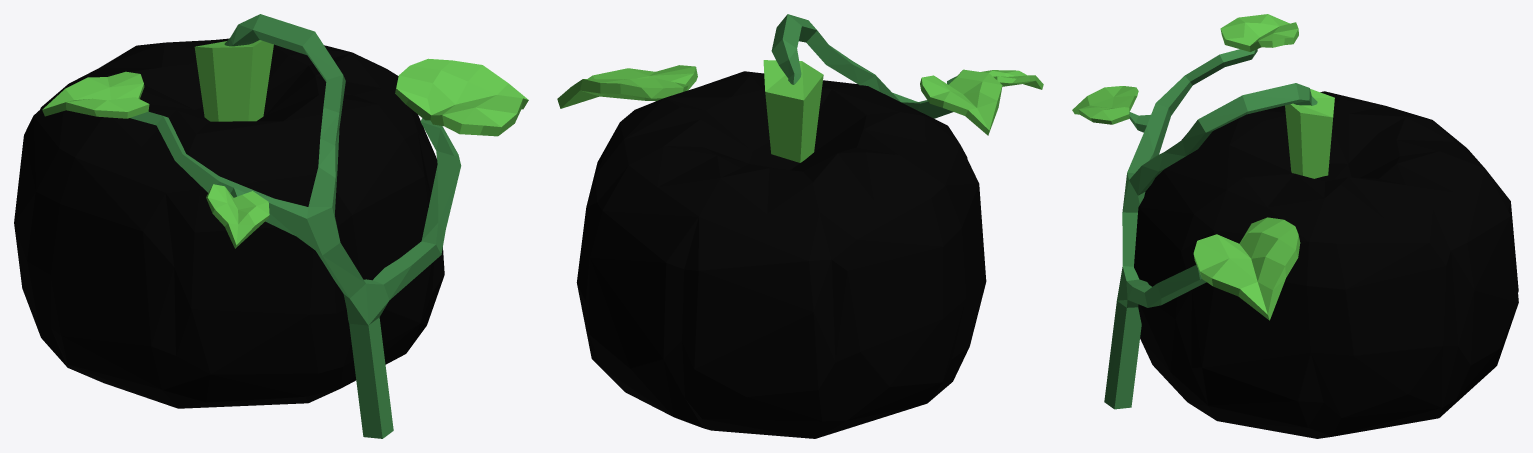
The model's file is Pumpkin_L_Growing.fbx.
3 renders of one model, left to right at view 1: azimuth 30°, elevation 25°; view 2: azimuth 150°, elevation 25°; view 3: azimuth 270°, elevation 25°, orthographic. The views are drawn at different scales.
Parts seen in each view (by area): view 1: Pumpkin_L_01, Pumpkin_L_01_Groowing; view 2: Pumpkin_L_01, Pumpkin_L_01_Groowing; view 3: Pumpkin_L_01, Pumpkin_L_01_Groowing.
Boxes of the visible parts, x1,y1,x2,y2 form: Pumpkin_L_01: (14,38,444,408); Pumpkin_L_01_Groowing: (42,14,528,438); Pumpkin_L_01: (576,60,986,438); Pumpkin_L_01_Groowing: (557,14,1043,135); Pumpkin_L_01: (1134,89,1518,438); Pumpkin_L_01_Groowing: (1072,14,1317,409).
Bounding box in the file's own units: 69.02 × 49.43 × 63.54.
